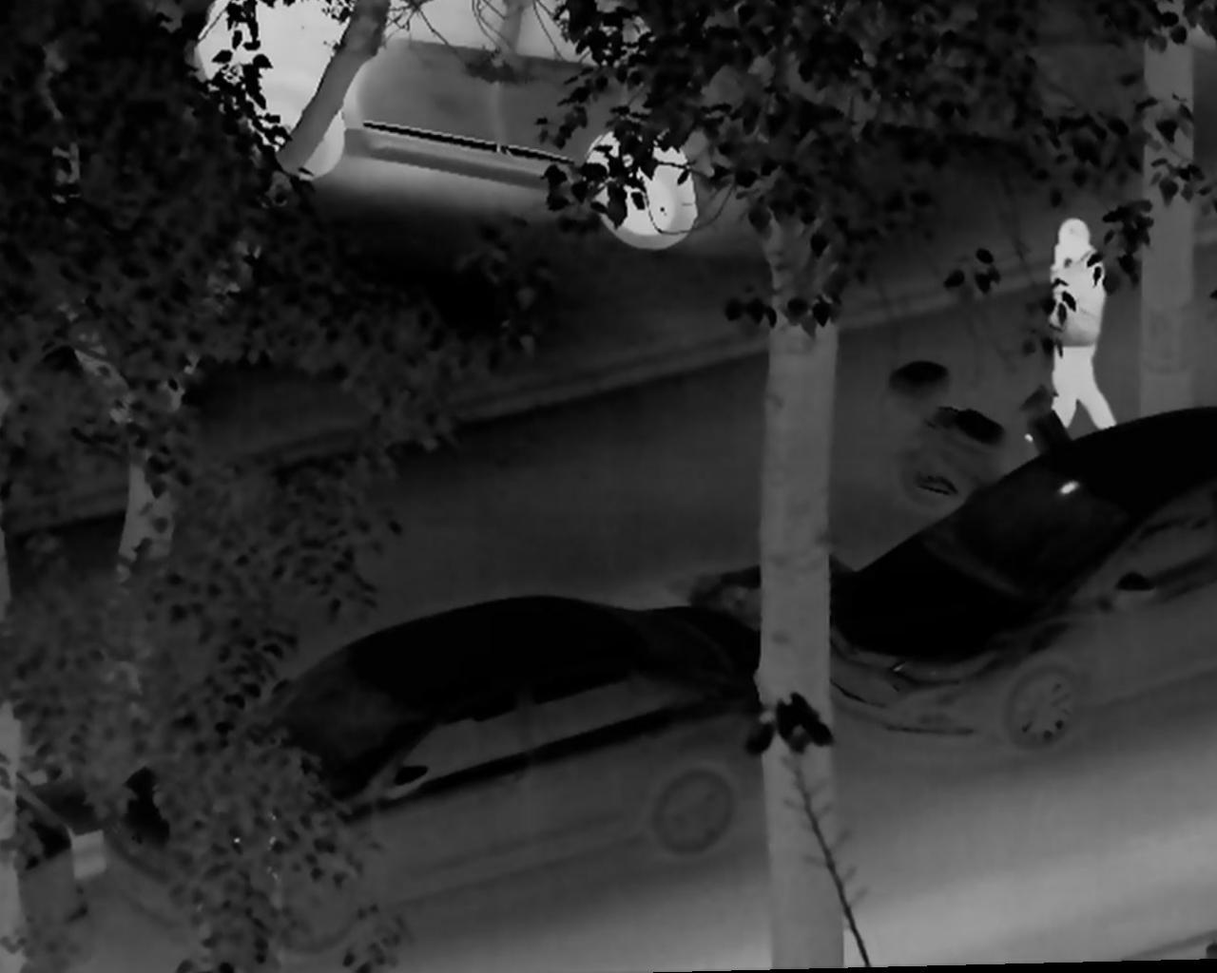person: (1025, 219, 1124, 447)
